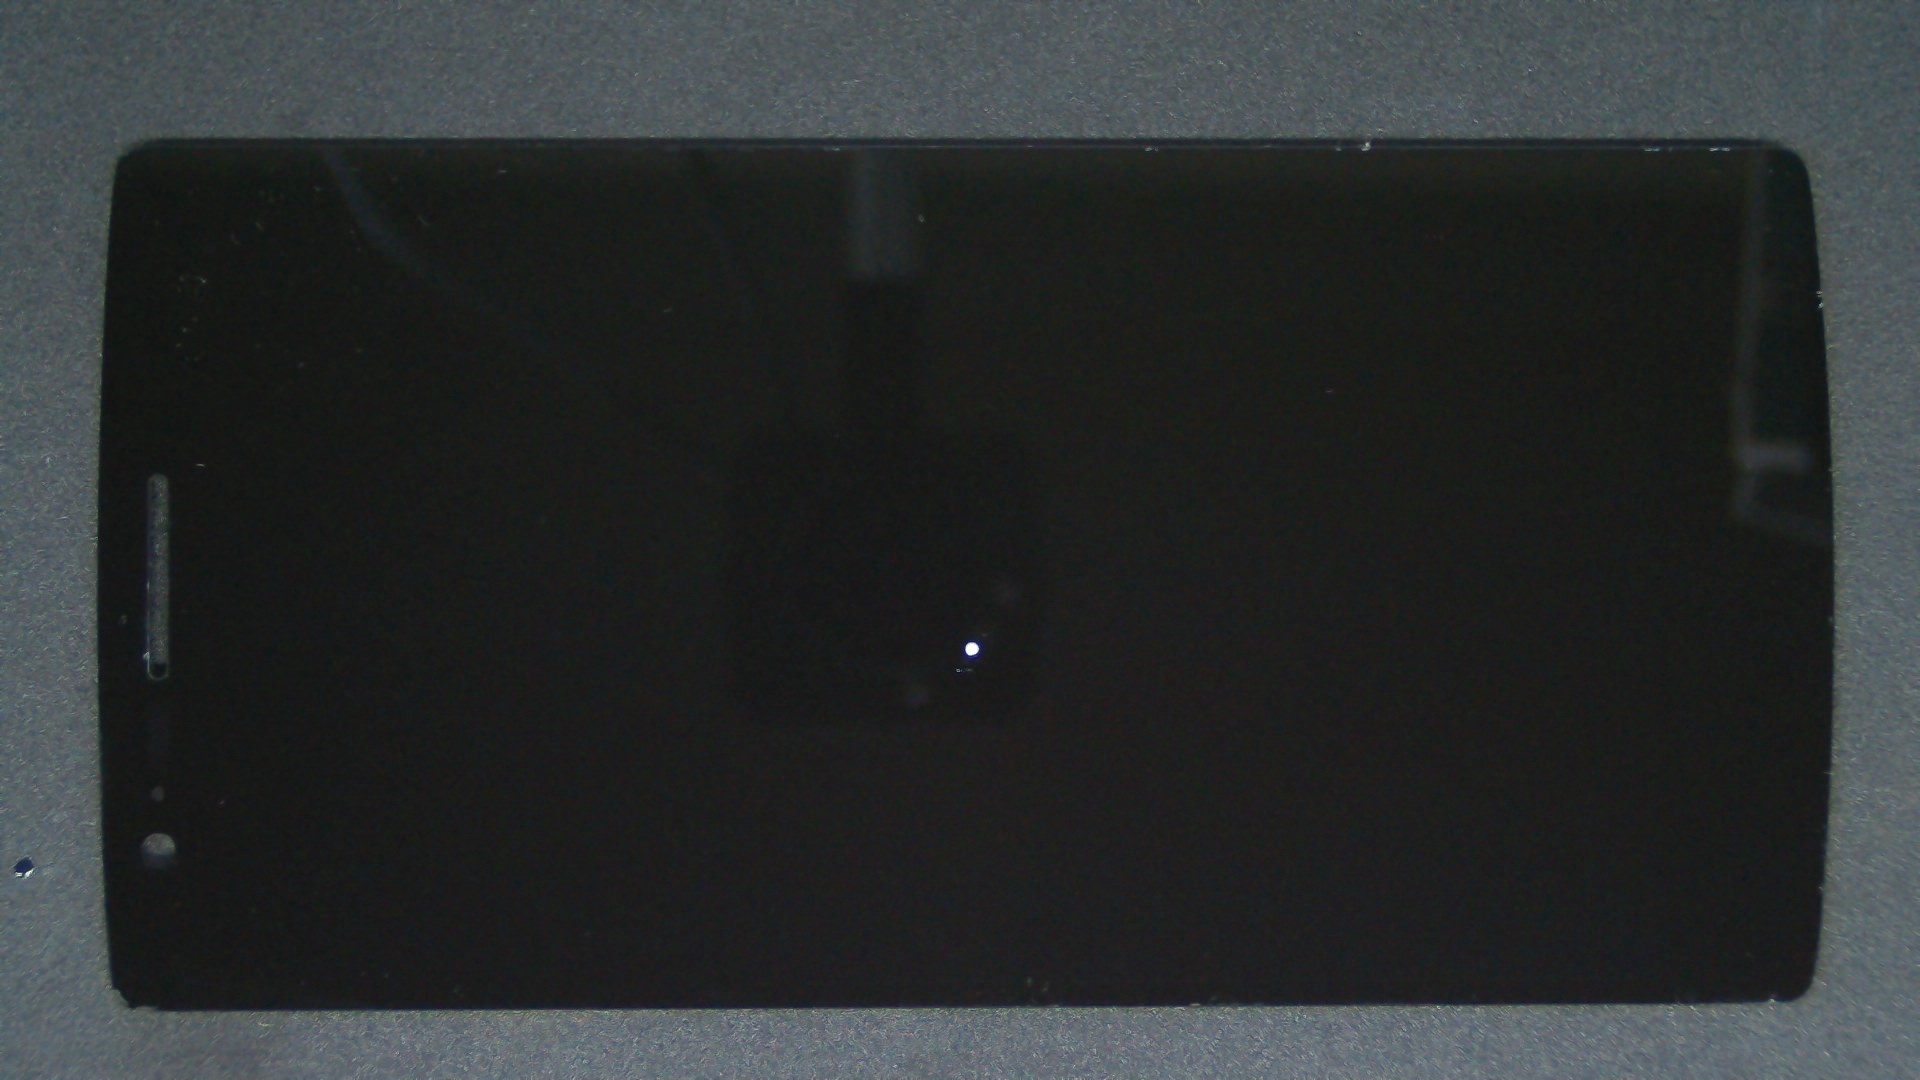oil: (488, 320, 1462, 963)
